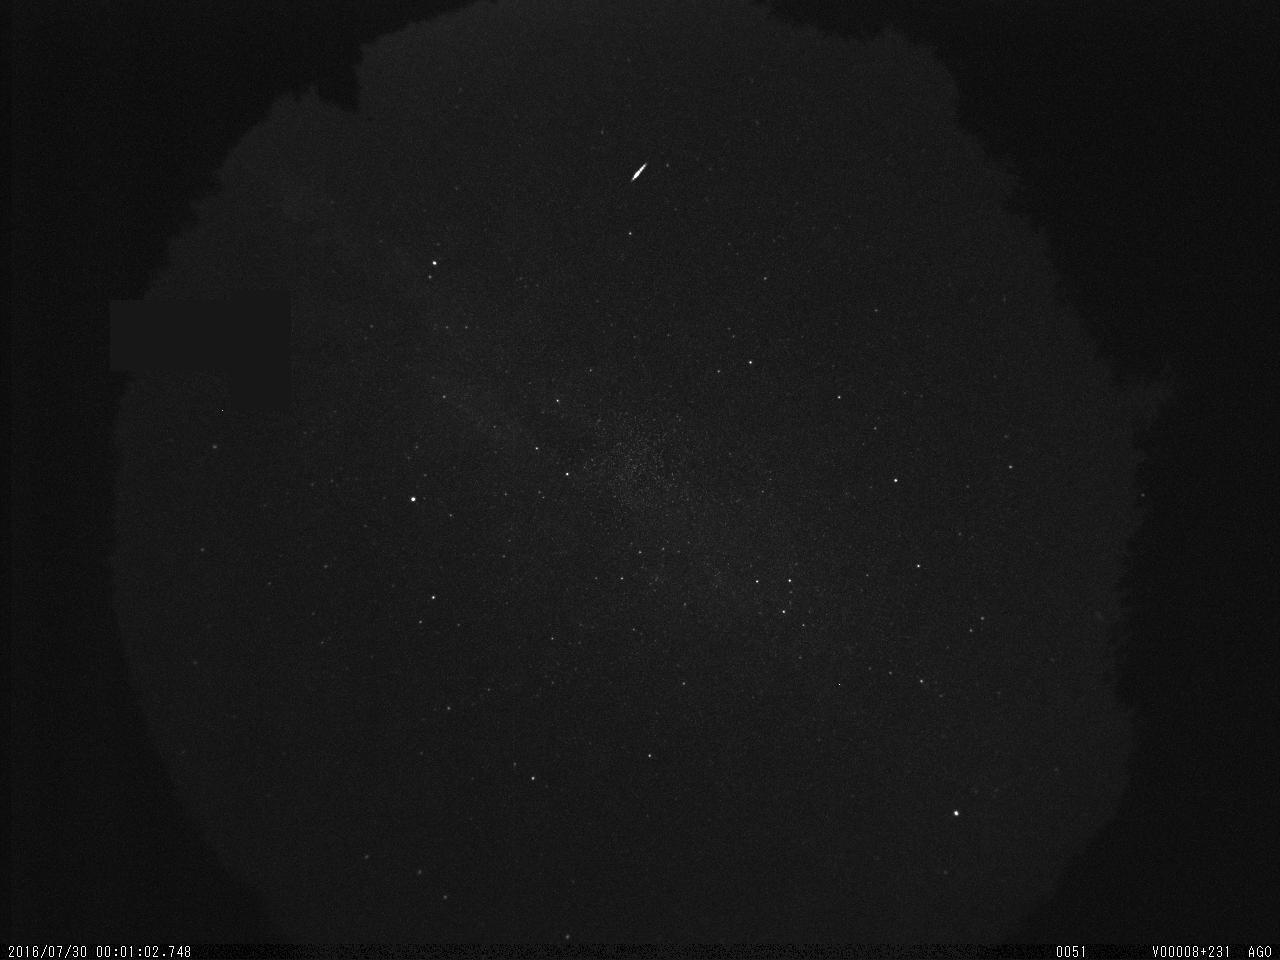meteor: (617, 149, 660, 194)
